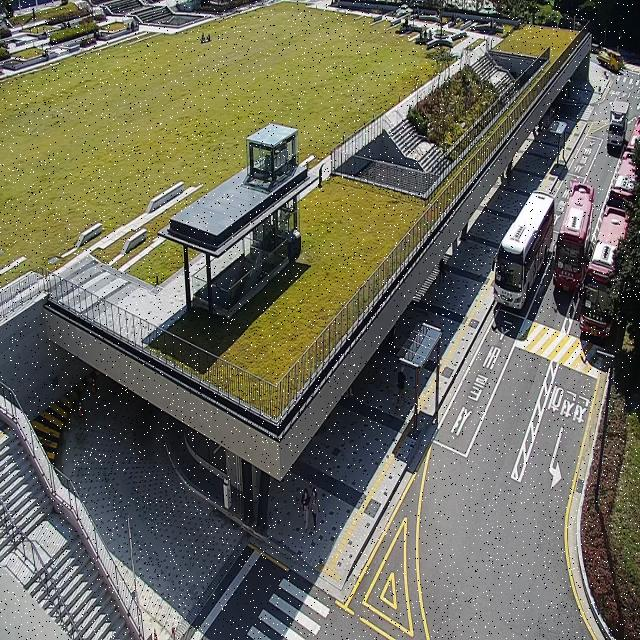queue: (412, 329, 442, 433)
